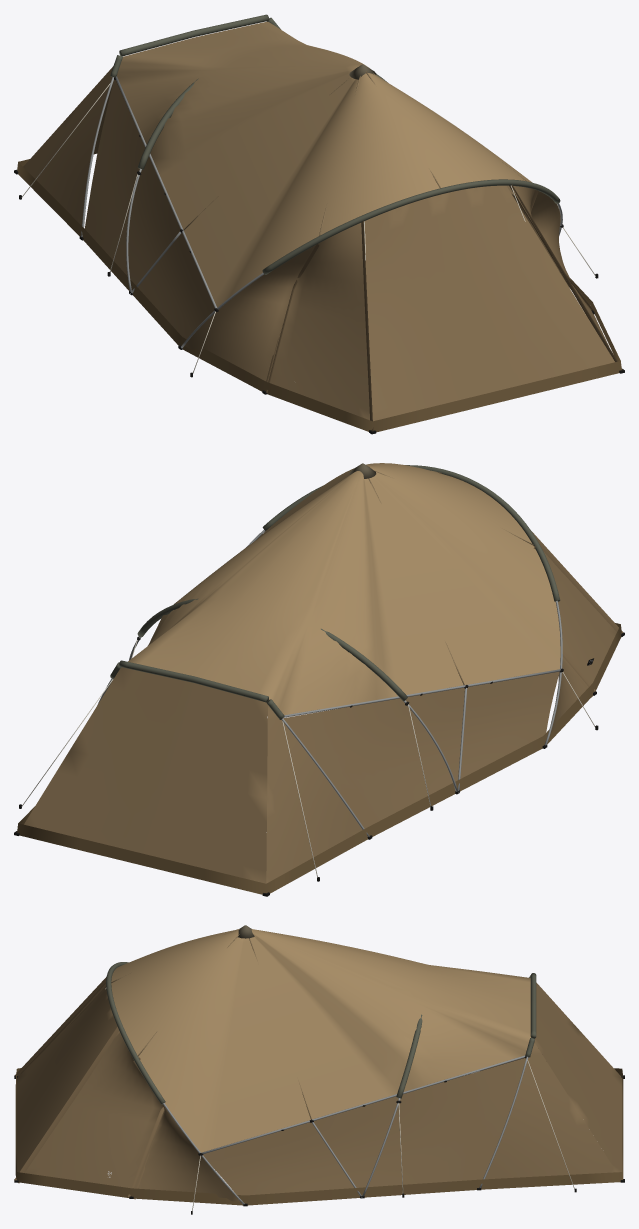
Rendered from zanearts-ginga.glb.
3 renders of one model, top to bottom at view 1: azimuth 30°, elevation 25°; view 2: azimuth 150°, elevation 25°; view 3: azimuth 270°, elevation 25°, orthographic. The views are drawn at different scales.
Size of the model in its own units: 4.5 by 2.55 by 6.85.
